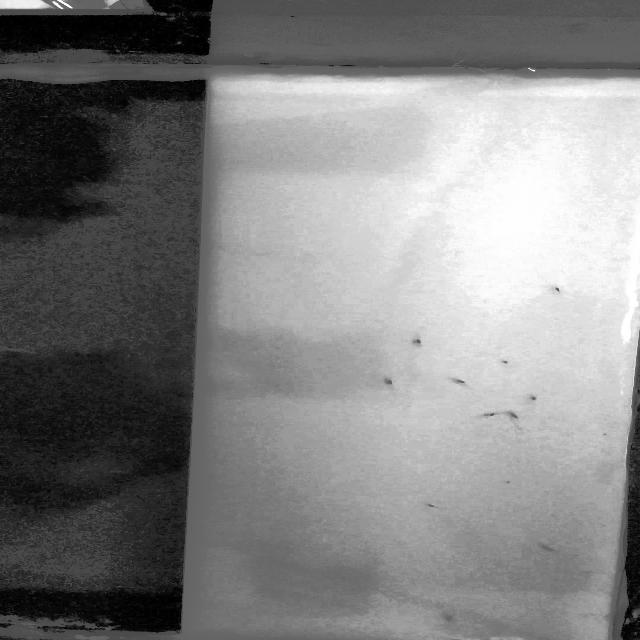shrimp: (503, 412, 528, 428), (484, 406, 512, 420), (525, 388, 548, 405), (380, 375, 400, 393), (423, 502, 461, 511), (449, 375, 477, 387), (535, 542, 562, 554), (411, 336, 432, 348), (440, 610, 459, 622), (497, 356, 514, 369), (554, 284, 572, 296)
